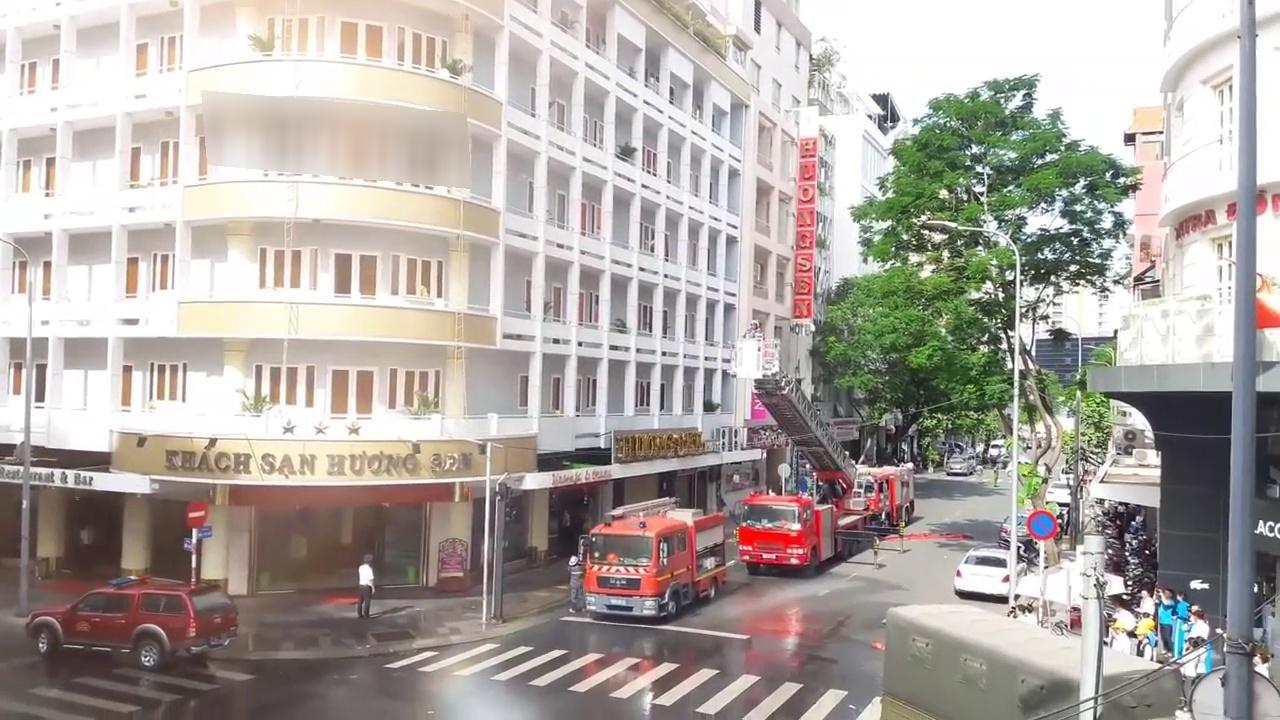xe cuu hoa: (735, 318, 869, 576), (576, 496, 725, 618)
xe hoi: (26, 573, 238, 672), (952, 546, 1009, 601)
xe tai: (879, 606, 1080, 720)
